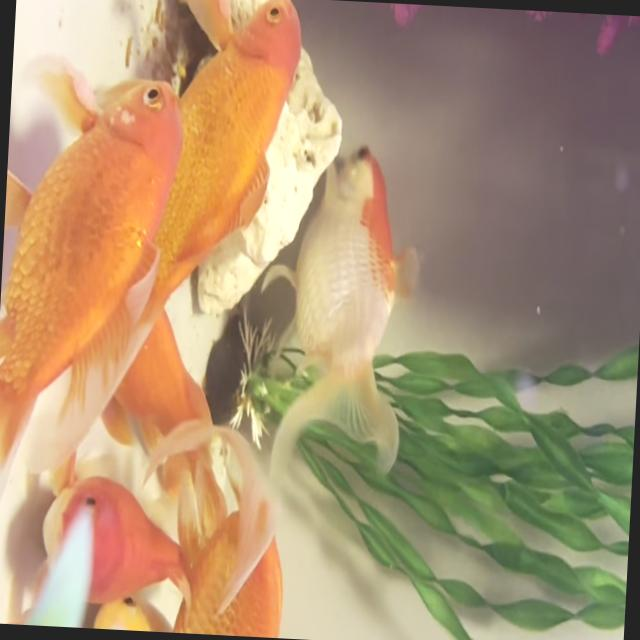fish: (77, 0, 306, 483), (0, 59, 195, 564), (255, 136, 428, 492), (130, 436, 292, 638)
